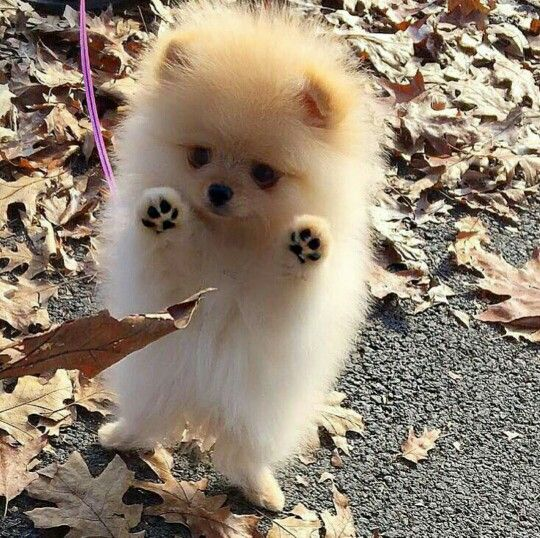pomeranian: (89, 9, 385, 524)
